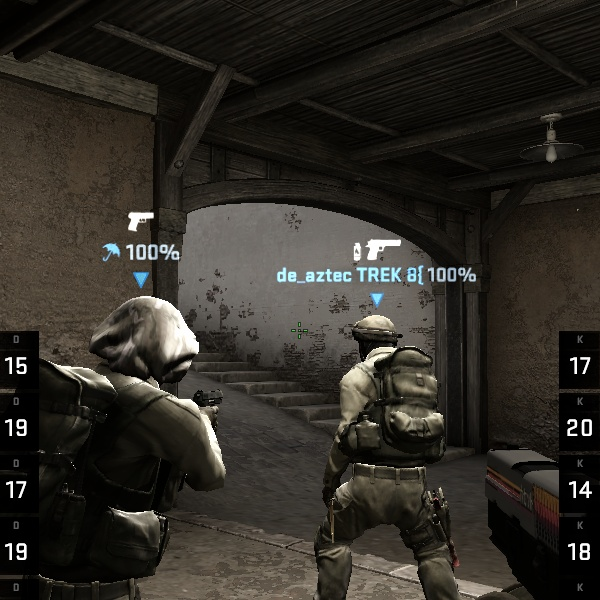ct_body: (0, 282, 221, 600), (308, 305, 498, 596)
ct_head: (82, 289, 200, 406), (346, 310, 407, 369)
